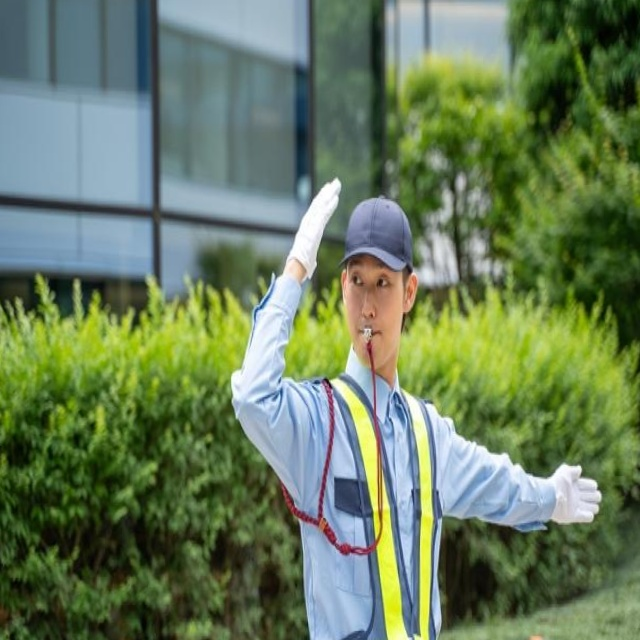Con_Chaleco: (305, 379, 445, 640)
Sin_Casco_Mascarrilla: (340, 190, 414, 357)
